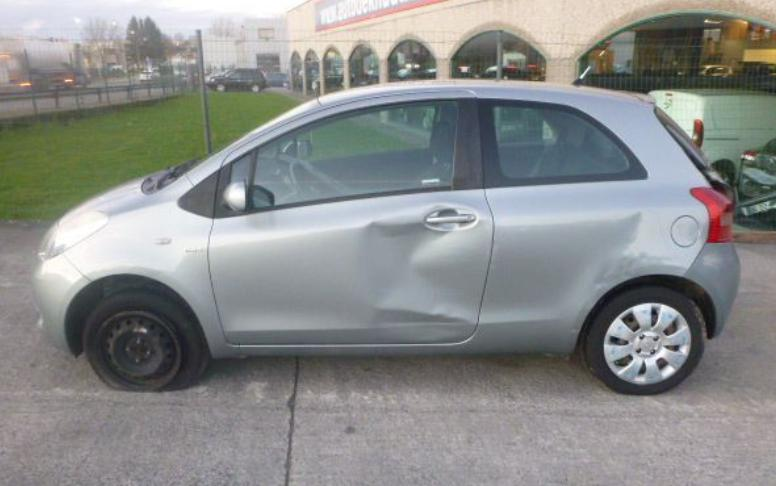Broken part: (82, 290, 202, 392)
Dent: (338, 201, 474, 334), (564, 204, 688, 341)
